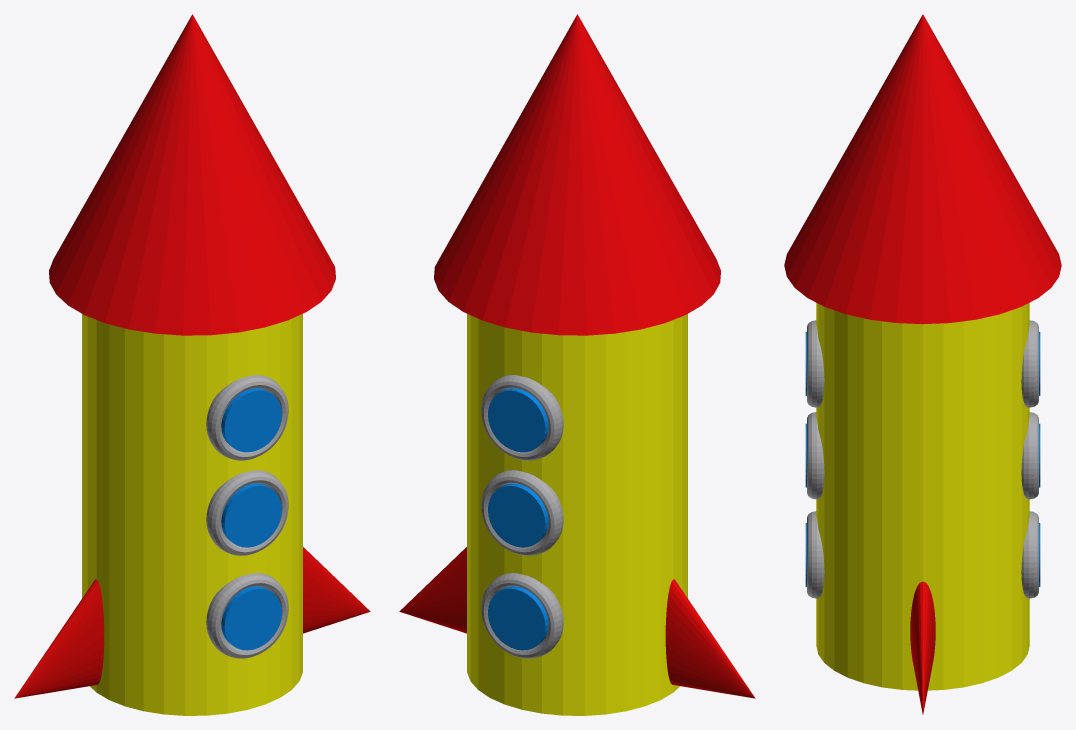
File: rocket.fbx
3 views of the same model, side by side, from view 1: azimuth 30°, elevation 25°; view 2: azimuth 150°, elevation 25°; view 3: azimuth 270°, elevation 25° (orthographic). The views are drawn at different scales.
Parts seen in each view (by area): view 1: Cylinder, Cone, Cone.002, Cylinder.003, Cylinder.001, Cylinder.002, Cone.001, Torus.006, Torus.005, Torus.004; view 2: Cylinder, Cone, Cone.002, Cylinder.003, Cylinder.001, Cylinder.002, Cone.001, Torus.001, Torus.002, Torus.003; view 3: Cylinder, Cone, Cone.001, Torus.003, Torus.004, Torus.002, Torus.001, Torus.006, Torus.005.
Boxes of the visible parts, x1,y1,x2,y2 form: Cylinder: (82, 314, 302, 715); Cone: (49, 14, 335, 335); Cone.002: (14, 579, 104, 698); Cylinder.003: (221, 586, 281, 650); Cylinder.001: (221, 483, 281, 547); Cylinder.002: (221, 388, 281, 452); Cone.001: (303, 547, 370, 633); Torus.006: (206, 470, 288, 555); Torus.005: (206, 573, 288, 658); Torus.004: (206, 375, 288, 460); Cylinder: (467, 314, 687, 715); Cone: (434, 14, 720, 335); Cone.002: (665, 579, 755, 698); Cylinder.003: (488, 586, 548, 650); Cylinder.001: (488, 483, 548, 547); Cylinder.002: (488, 388, 548, 452); Cone.001: (399, 547, 466, 633); Torus.001: (481, 470, 563, 555); Torus.002: (481, 573, 563, 658); Torus.003: (481, 375, 563, 460); Cylinder: (816, 303, 1029, 690); Cone: (784, 14, 1061, 324); Cone.001: (910, 581, 935, 714); Torus.003: (1021, 320, 1038, 407); Torus.004: (807, 320, 824, 407); Torus.002: (1021, 511, 1038, 598); Torus.001: (1021, 412, 1038, 499); Torus.006: (807, 412, 824, 499); Torus.005: (807, 511, 824, 598).
Size of the model in its own units: 372 by 653 by 260.
